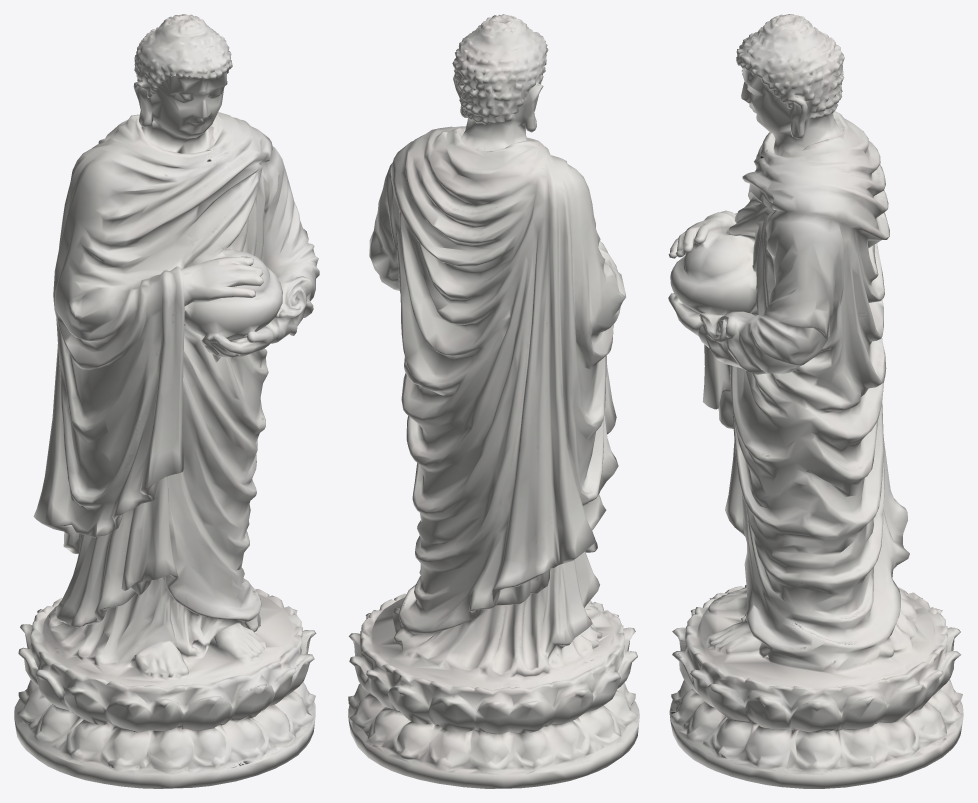
3 renders of one model, left to right at view 1: azimuth 30°, elevation 25°; view 2: azimuth 150°, elevation 25°; view 3: azimuth 270°, elevation 25°, orthographic. The views are drawn at different scales.
Visible parts, largest first — view 1: owner-collection20-20; view 2: owner-collection20-20; view 3: owner-collection20-20.
Boxes of the visible parts, <box> form: owner-collection20-20: <box>14,14,319,788</box>; owner-collection20-20: <box>348,14,639,788</box>; owner-collection20-20: <box>668,14,963,788</box>.
Bounding box in the file's own units: 0.3843 × 0.9998 × 0.3767.
Materials: 1 (1 with a texture image).
